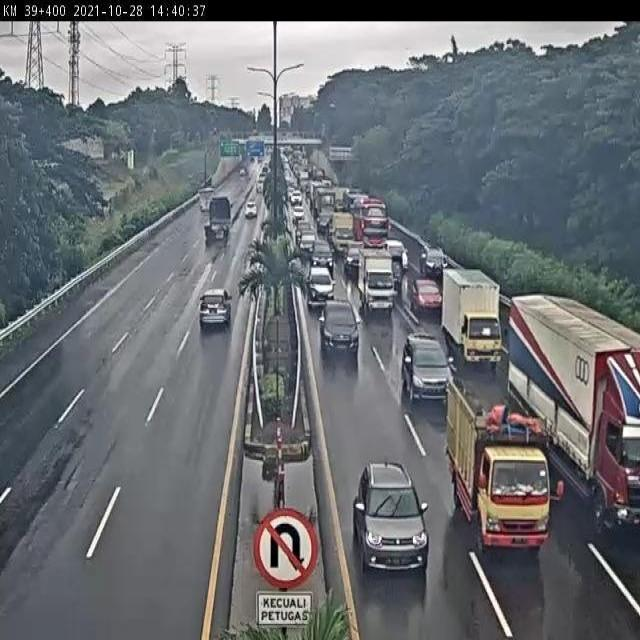Car: (343, 425, 438, 602), (319, 300, 361, 369), (198, 287, 232, 330), (306, 264, 335, 309), (420, 246, 446, 279), (310, 240, 334, 275), (385, 238, 407, 276), (344, 246, 362, 279)
Truck: (504, 298, 640, 544), (448, 380, 558, 555), (441, 269, 502, 373), (401, 332, 452, 405), (356, 246, 396, 320), (257, 436, 310, 486), (204, 120, 231, 187), (353, 198, 388, 248), (204, 196, 232, 246), (260, 418, 294, 455), (410, 278, 442, 317), (330, 210, 356, 255), (286, 284, 300, 358), (460, 388, 489, 421), (312, 184, 335, 225), (261, 447, 281, 484), (406, 332, 439, 352), (280, 199, 293, 241), (298, 225, 316, 255), (361, 196, 386, 217), (328, 146, 354, 162), (348, 193, 369, 212), (231, 200, 246, 226), (288, 256, 304, 280), (338, 188, 354, 211), (293, 146, 307, 170), (282, 146, 296, 169), (250, 261, 266, 281), (310, 180, 325, 201), (311, 190, 322, 218), (430, 231, 444, 253), (241, 160, 256, 179), (290, 202, 304, 222), (230, 138, 247, 153), (244, 200, 257, 218), (326, 230, 336, 253), (38, 160, 61, 170), (346, 187, 362, 201), (305, 179, 315, 200), (420, 242, 430, 263), (248, 139, 264, 152), (290, 189, 302, 206), (284, 178, 295, 196), (312, 168, 325, 182), (199, 177, 213, 190), (261, 164, 271, 182), (294, 226, 303, 246), (265, 144, 276, 158), (280, 118, 291, 132), (320, 179, 332, 191), (204, 223, 212, 241), (199, 198, 209, 212), (128, 149, 134, 171), (280, 152, 288, 168), (262, 135, 273, 146), (253, 154, 263, 166), (321, 122, 327, 141), (279, 132, 293, 140), (254, 161, 262, 175), (300, 170, 309, 182), (242, 156, 251, 168), (256, 181, 264, 193), (261, 217, 267, 231), (223, 289, 230, 301), (211, 127, 218, 137), (186, 173, 193, 182), (239, 168, 246, 176), (251, 129, 258, 137), (250, 156, 255, 163)
